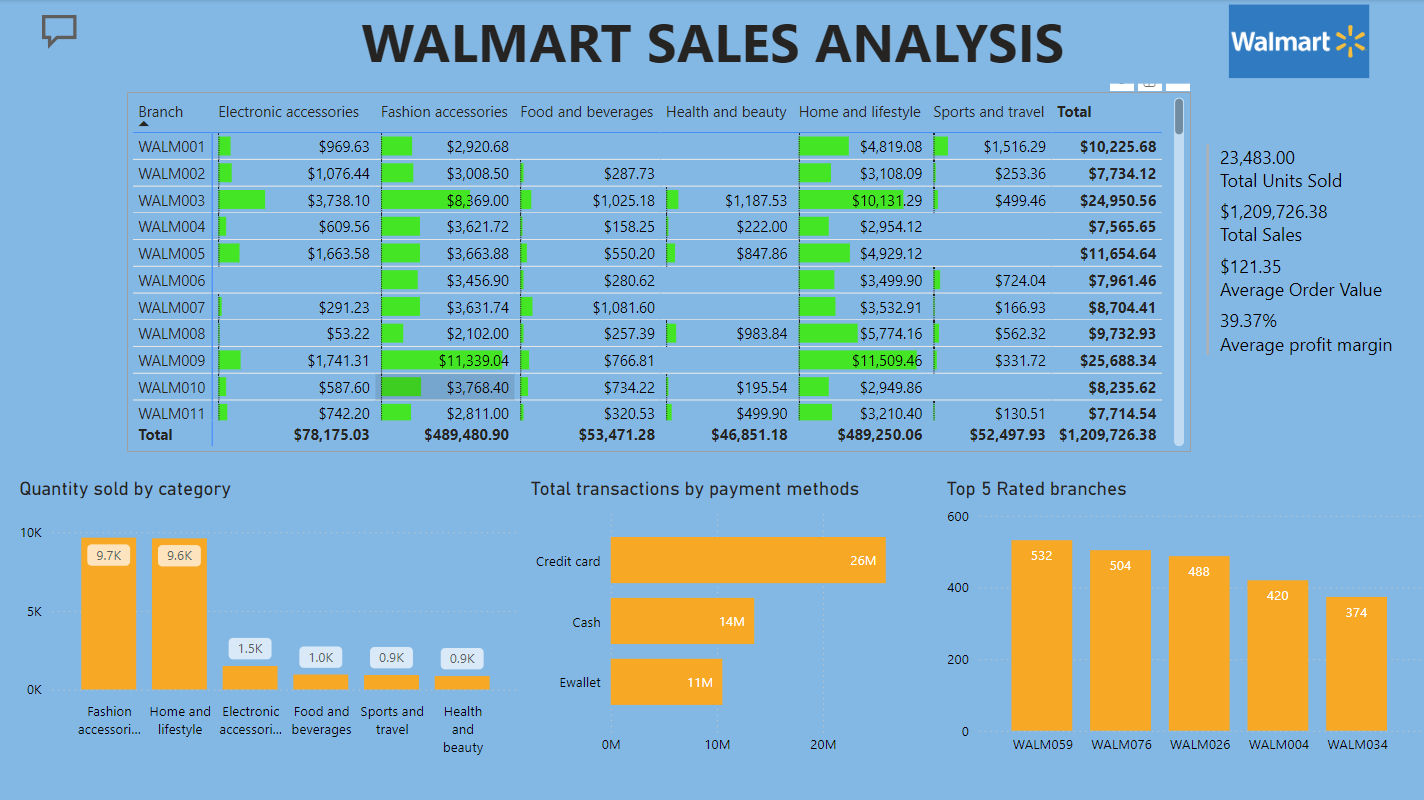

This screenshot's page, from the dashboard's own definition file:
{"tool":"powerbi","page":{"name":"Page 1","canvas":[1280,720],"ordinal":0},"visuals":[{"type":"lineStackedColumnComboChart","title":"Quantity sold by category","fields":{"Category":["public walmart.category"],"Y":["Sum(public walmart.quantity)"]},"box":[12.2,428.9,458.9,257.8],"z":0},{"type":"pivotTable","fields":{"Rows":["public walmart.branch"],"Columns":["public walmart.category"],"Values":["Sum(public walmart.total_sales)"]},"box":[114.4,83.3,954.4,323.3],"z":1000},{"type":"barChart","title":"Total transactions by payment methods","fields":{"Category":["public walmart.payment_method"],"Y":["Sum(public walmart.invoice_id)"]},"box":[471.1,428.9,373.3,257.8],"z":2000},{"type":"multiRowCard","fields":{"Values":["Sum(public walmart.quantity)","Sum(public walmart.total_sales)","public walmart.Average Order Value","Avg(public walmart.profit_margin)"]},"box":[1077.8,125.6,184.4,238.9],"z":3000},{"type":"textbox","box":[0,0,1280,75.6],"z":3001,"group":"g1"},{"type":"image","box":[1068.9,0,193.3,75.6],"z":3004,"group":"g1"},{"type":"group","id":"g1","title":"Group 1","box":[0,0,1280,75.6],"z":3005},{"type":"actionButton","box":[33.3,8.9,100,40],"z":3007},{"type":"columnChart","title":"Top 5 Rated branches","fields":{"Category":["public walmart.branch"],"Y":["Sum(public walmart.rating)"]},"box":[844.4,428.9,435.6,257.8],"z":3008}]}

Visuals, with their boxes in screenshot pixels (x1, y1, x2, y2), scaled from the page's 1280x720 canvas onto the 1424x800 screenshot:
"Quantity sold by category" lineStackedColumnComboChart: [14,477,524,763]
pivotTable - public walmart.branch x public walmart.category: [127,93,1189,452]
"Total transactions by payment methods" barChart: [524,477,939,763]
multiRowCard - Sum(public walmart.quantity) x Sum(public walmart.total_sales): [1199,140,1404,405]
textbox: [0,0,1423,84]
image: [1189,0,1404,84]
"Group 1" group: [0,0,1423,84]
actionButton: [37,10,148,54]
"Top 5 Rated branches" columnChart: [939,477,1423,763]
